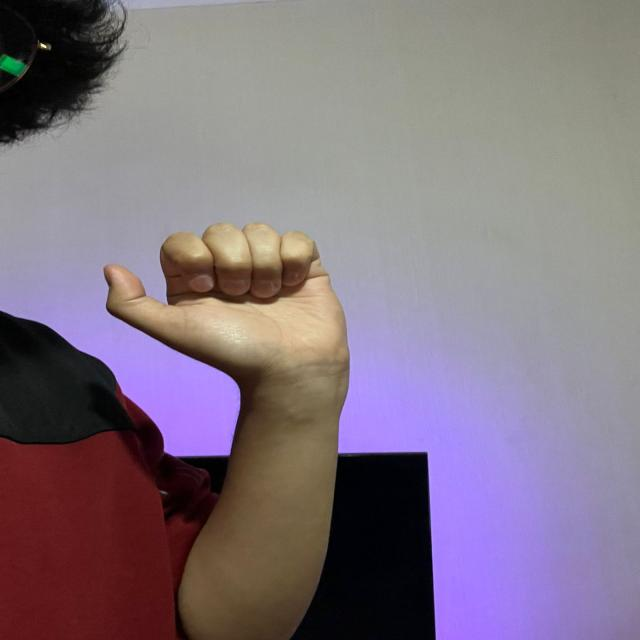E: (94, 218, 370, 371)
